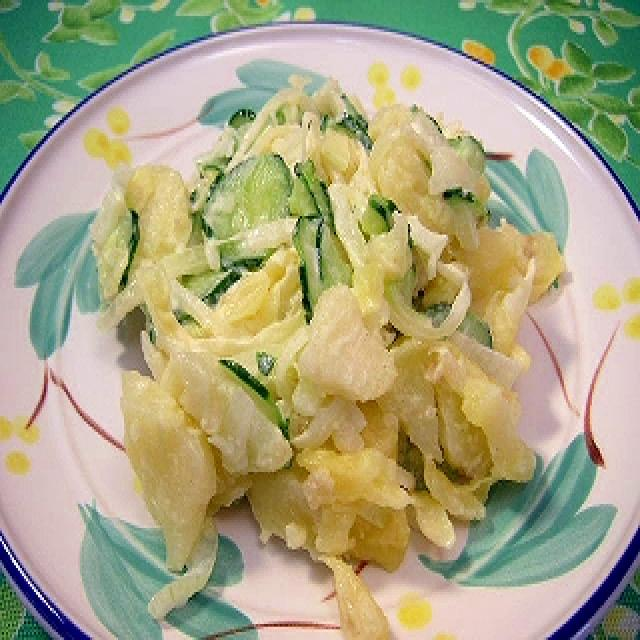蔬菜料理: (0, 10, 640, 640)
